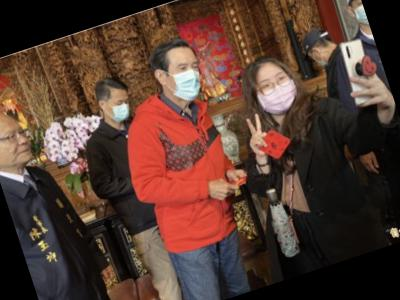with_mask: (250, 65, 305, 121), (161, 56, 211, 106), (102, 92, 137, 127), (309, 48, 331, 70)
